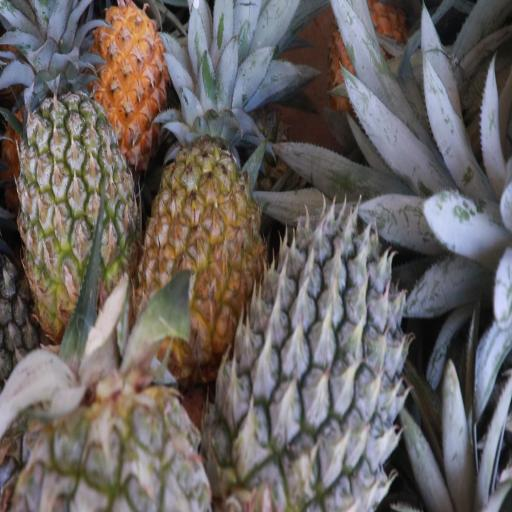------------------------------: (22, 94, 130, 326)
Pineapple - v8 v1: (141, 104, 262, 365), (68, 0, 159, 122)
